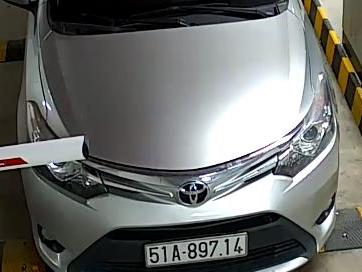number: (144, 236, 245, 264)
